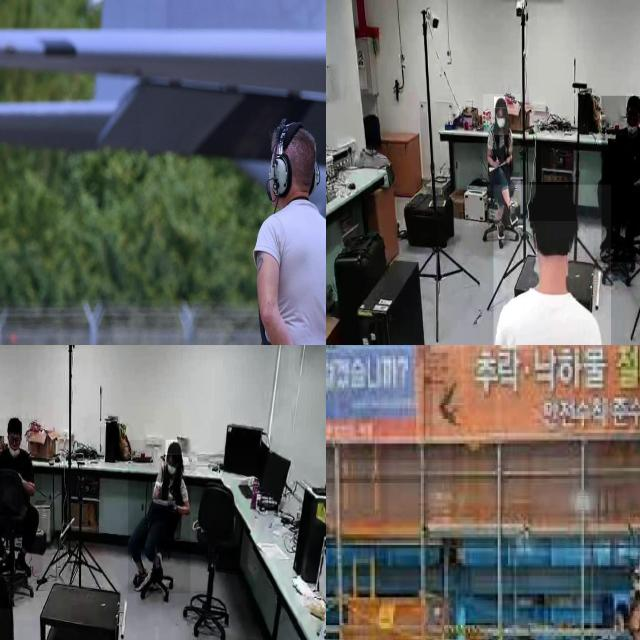Ear-protection: (260, 115, 325, 219)
face_mask: (494, 107, 508, 135), (165, 453, 178, 478), (9, 433, 21, 454)
face_nomask: (627, 105, 639, 127)
glasses: (8, 433, 22, 447)
hand_noglove: (152, 482, 162, 499), (168, 500, 178, 516), (504, 154, 512, 168), (492, 155, 500, 169)
head_nohelmet: (269, 118, 316, 192), (530, 182, 576, 221), (0, 562, 12, 609), (6, 416, 22, 432), (166, 440, 182, 456), (626, 94, 640, 106), (494, 97, 507, 108)
person: (226, 93, 326, 345), (493, 184, 611, 345), (128, 440, 191, 594), (601, 96, 640, 263), (0, 418, 42, 573), (483, 94, 521, 225)
shoes: (152, 550, 166, 585), (132, 564, 148, 594), (14, 550, 32, 576)
